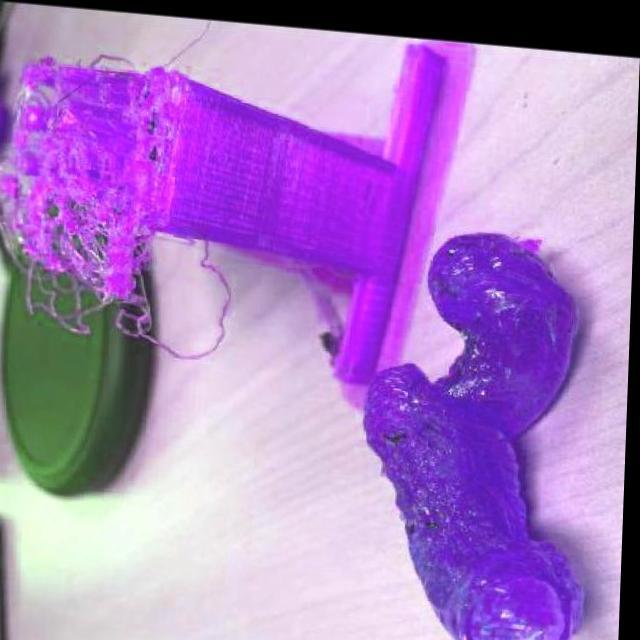spaghetti: (0, 38, 173, 343), (159, 216, 240, 361)
